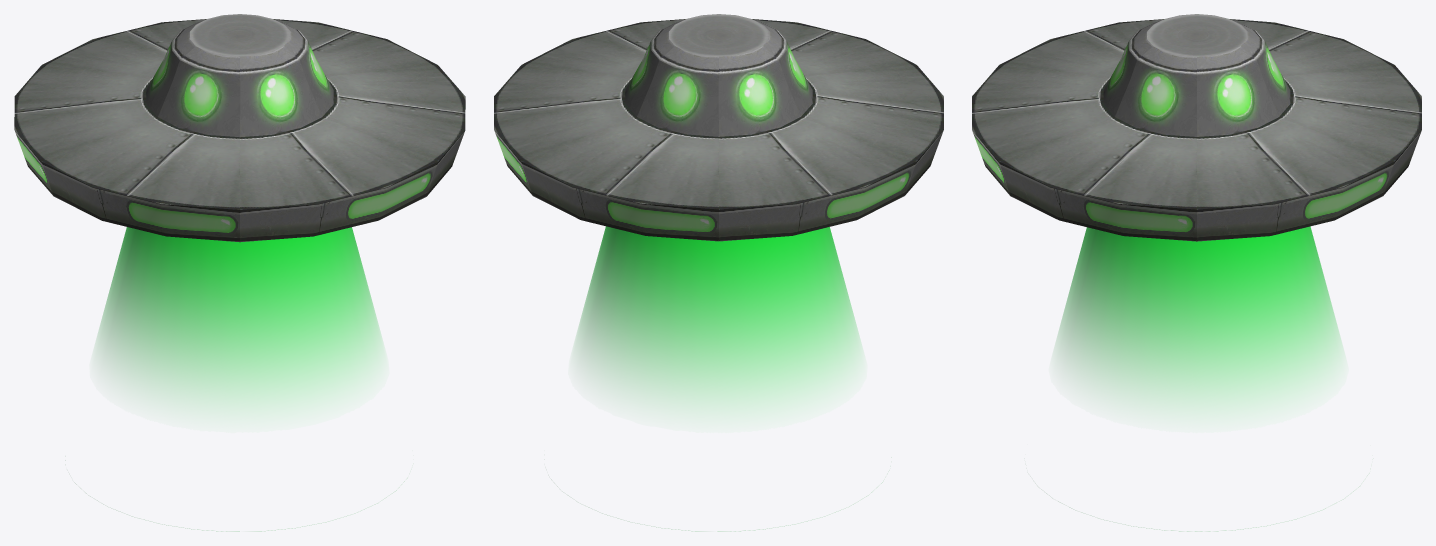
The model's file is beam.gltf.
3 renders of one model, left to right at view 1: azimuth 30°, elevation 25°; view 2: azimuth 150°, elevation 25°; view 3: azimuth 270°, elevation 25°, orthographic.
Parts seen in each view (by area): view 1: default; view 2: default; view 3: default.
Part boxes in pixels (left/top/right/bottom): default: left=14, top=14, right=465, bottom=531; default: left=494, top=14, right=943, bottom=531; default: left=972, top=14, right=1421, bottom=531.
Bounding box in the file's own units: 2.62 × 2.67 × 2.58.
Materials: 2 (2 with a texture image).
